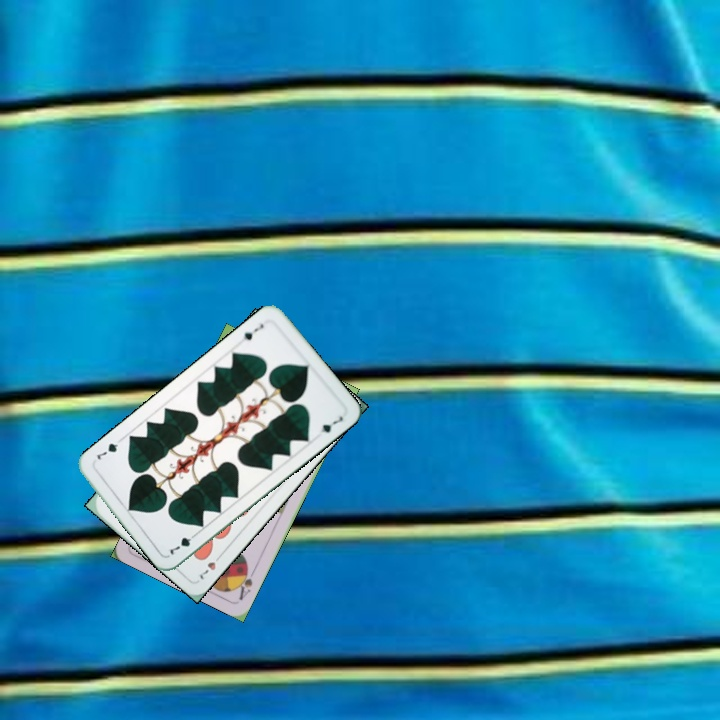G7: (166, 528, 200, 558), (239, 319, 266, 343)
H7: (196, 549, 225, 582)
SA: (233, 562, 258, 603)
